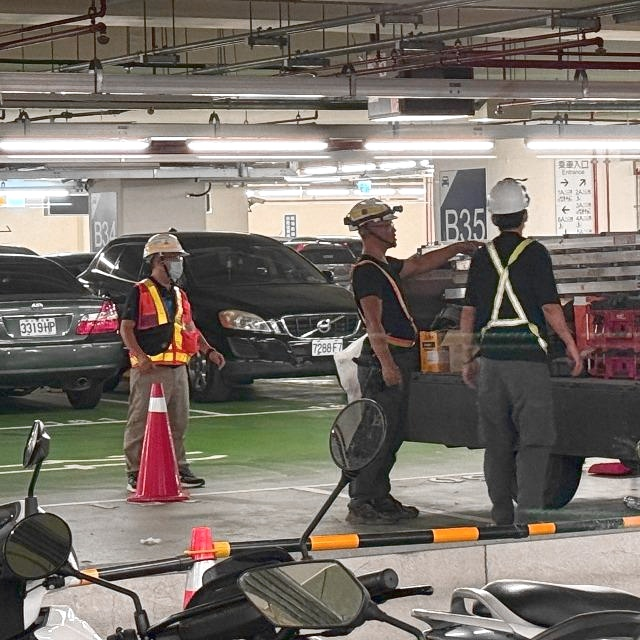Con_Casco: (342, 198, 406, 251), (486, 177, 534, 234), (143, 233, 188, 281)
Con_Chaleco: (473, 240, 553, 356), (350, 258, 422, 357), (122, 285, 200, 369)
